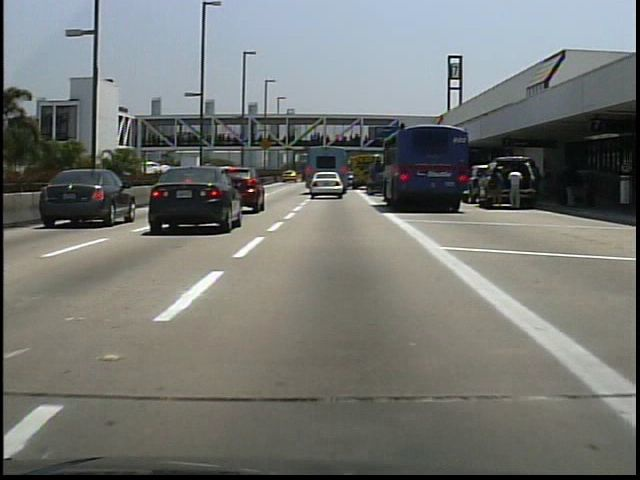person: (485, 164, 508, 217), (505, 162, 525, 214), (561, 167, 577, 209)
